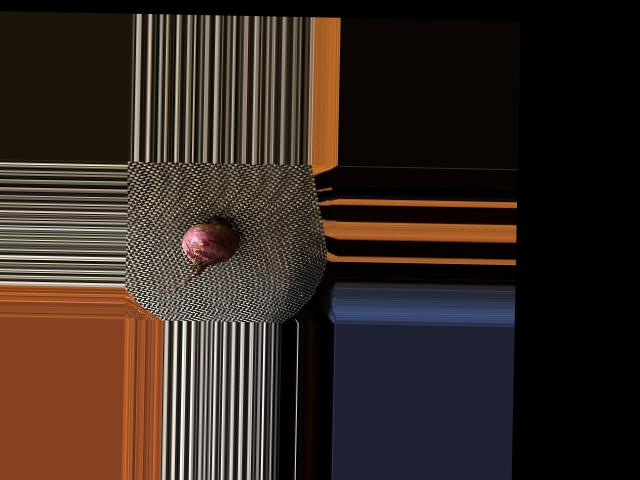beet: (156, 214, 240, 295)
